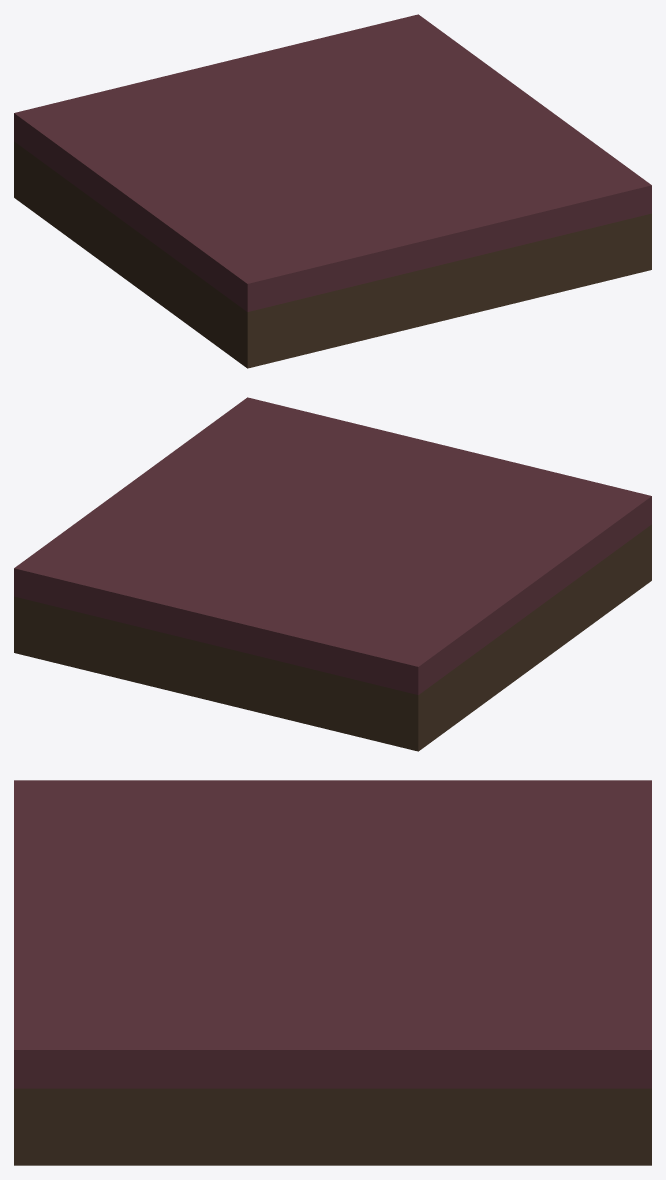
Rendered from tiles-tile-runway-main-threshold.glb.
The picture shows the model from 3 angles, top to bottom: view 1: azimuth 30°, elevation 25°; view 2: azimuth 150°, elevation 25°; view 3: azimuth 270°, elevation 25°; orthographic projection. The views are drawn at different scales.
Parts seen in each view (by area): view 1: tile-runway-main-threshold; view 2: tile-runway-main-threshold; view 3: tile-runway-main-threshold.
Part boxes in pixels (x1=…): tile-runway-main-threshold: x1=14, y1=14, x2=651, y2=368; tile-runway-main-threshold: x1=14, y1=397, x2=651, y2=751; tile-runway-main-threshold: x1=14, y1=780, x2=651, y2=1165.
Bounding box in the file's own units: 30 × 6 × 30.
